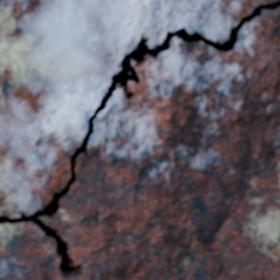brick: (0, 9, 279, 279), (0, 0, 276, 217)
crack: (0, 0, 279, 278)
